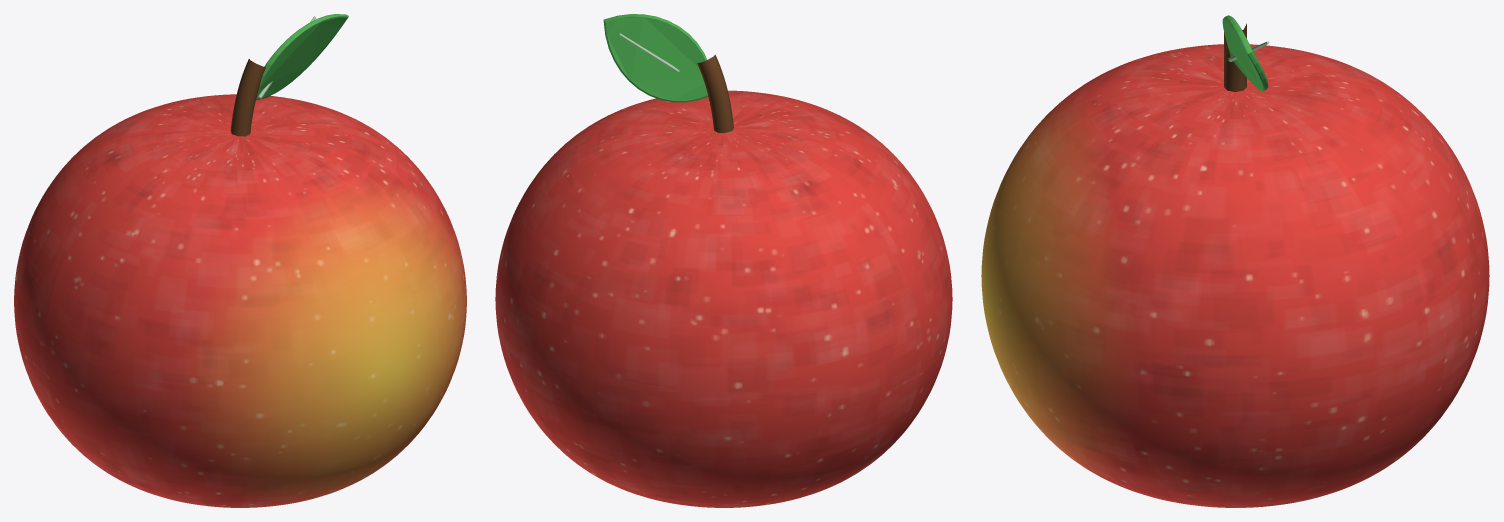
The model's file is apple.glb.
3 views of the same model, side by side, from view 1: azimuth 30°, elevation 25°; view 2: azimuth 150°, elevation 25°; view 3: azimuth 270°, elevation 25° (orthographic). The views are drawn at different scales.
Bounding box in the file's own units: 0.1524 × 0.1601 × 0.1524.
Materials: 4 (1 with a texture image).
